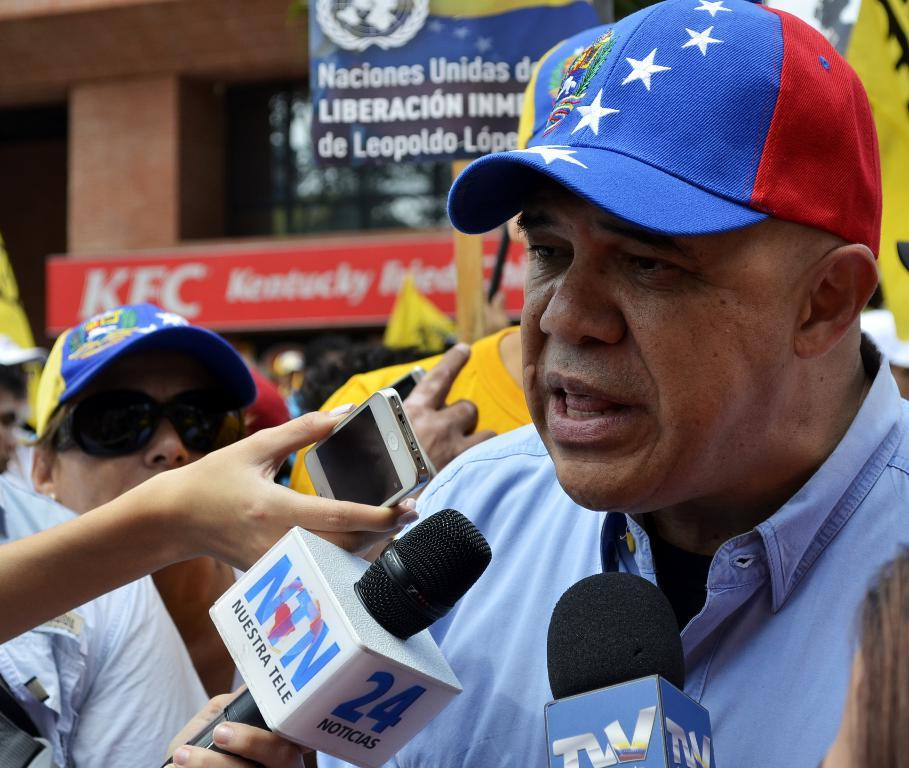Hat: (445, 0, 880, 258), (35, 300, 258, 431), (0, 331, 44, 383)
